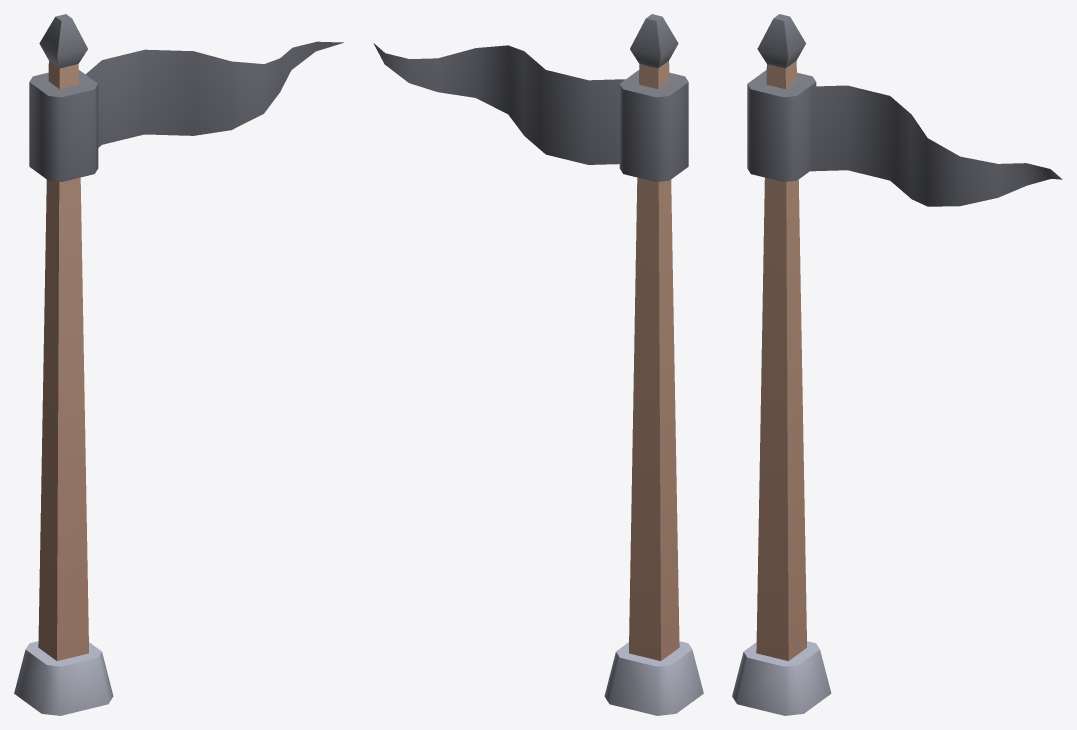
File: flag-pirate-high-pennant.glb
3 renders of one model, left to right at view 1: azimuth 30°, elevation 25°; view 2: azimuth 150°, elevation 25°; view 3: azimuth 330°, elevation 25°, orthographic.
Parts seen in each view (by area): view 1: flag-pirate-high-pennant; view 2: flag-pirate-high-pennant; view 3: flag-pirate-high-pennant.
Part boxes in pixels (x1=…): flag-pirate-high-pennant: x1=14, y1=14, x2=343, y2=715; flag-pirate-high-pennant: x1=373, y1=14, x2=703, y2=715; flag-pirate-high-pennant: x1=732, y1=14, x2=1062, y2=715.
Size of the model in its own units: 1.76 by 3.6 by 0.3989.
